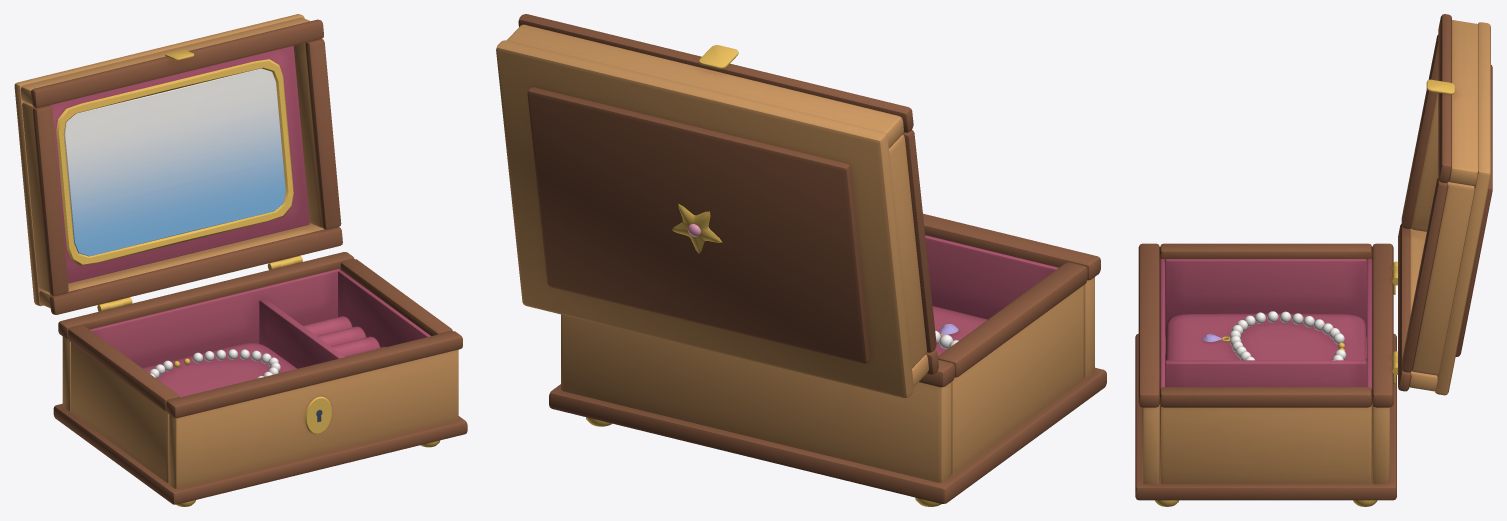
The model's file is jewelry-box.glb.
The picture shows the model from 3 angles, left to right: view 1: azimuth 30°, elevation 25°; view 2: azimuth 150°, elevation 25°; view 3: azimuth 270°, elevation 25°; orthographic projection. The views are drawn at different scales.
Visible parts, largest first — view 1: jewelry-box_lid, jewelry-box_body; view 2: jewelry-box_lid, jewelry-box_body; view 3: jewelry-box_body, jewelry-box_lid.
Boxes of the visible parts, x1,y1,x2,y2 form: jewelry-box_lid: (14,14,342,314); jewelry-box_body: (53,252,467,506); jewelry-box_lid: (496,14,938,397); jewelry-box_body: (549,213,1106,506); jewelry-box_body: (1135,243,1397,506); jewelry-box_lid: (1392,14,1492,395).
Size of the model in its own units: 0.208 by 0.2212 by 0.2021.
2 materials, 2 textured.
